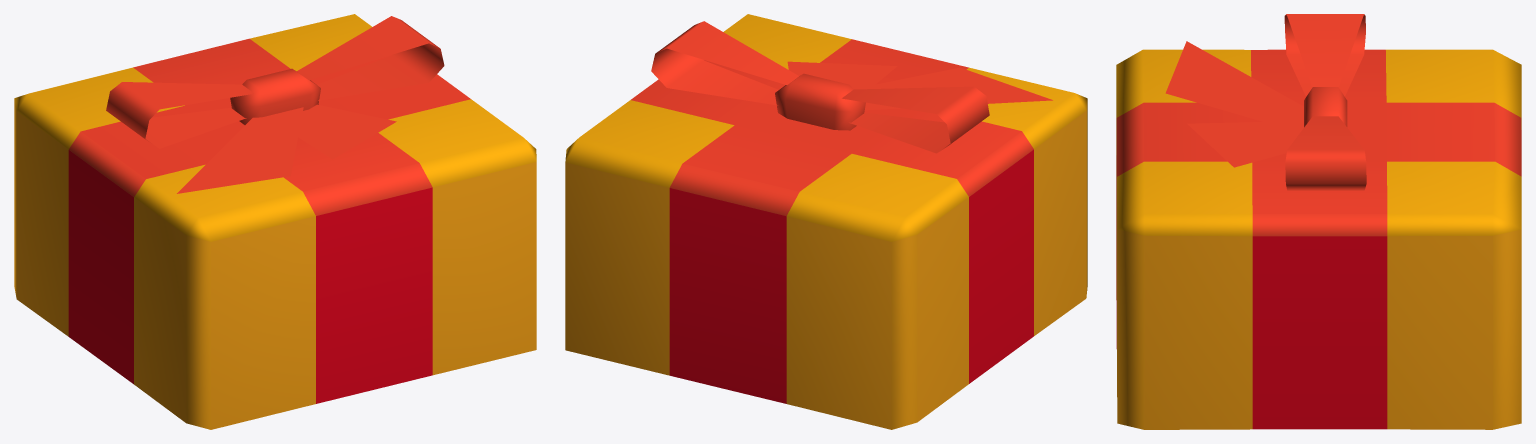
Rendered from Gift_Christmas1.fbx.
3 views of the same model, side by side, from view 1: azimuth 30°, elevation 25°; view 2: azimuth 150°, elevation 25°; view 3: azimuth 270°, elevation 25° (orthographic). The views are drawn at different scales.
Parts seen in each view (by area): view 1: Gift_Christmas1; view 2: Gift_Christmas1; view 3: Gift_Christmas1.
Boxes of the visible parts, left/top/right/bottom form: Gift_Christmas1: left=14, top=14, right=536, bottom=429; Gift_Christmas1: left=565, top=14, right=1087, bottom=429; Gift_Christmas1: left=1116, top=14, right=1521, bottom=429.
Bounding box in the file's own units: 46.72 × 32.13 × 45.28.
